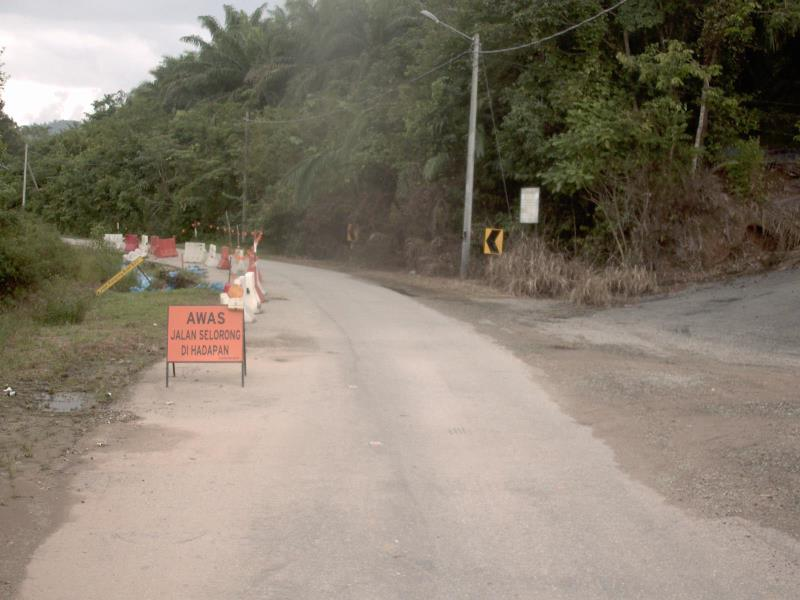traffic_sign: (475, 220, 508, 262)
